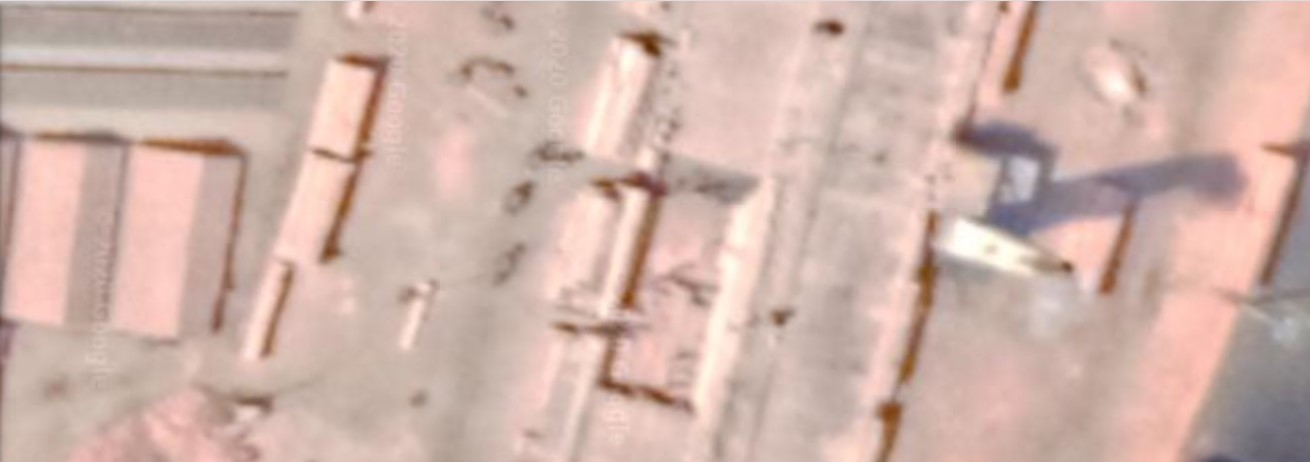kiln: (646, 24, 1239, 454)
